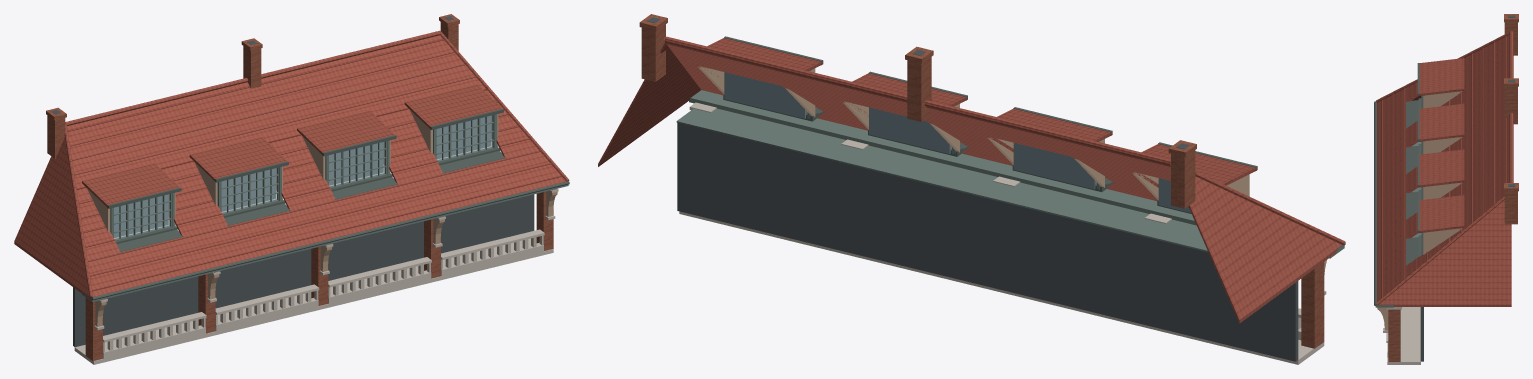
Rendered from lod-source.glb.
3 renders of one model, left to right at view 1: azimuth 30°, elevation 25°; view 2: azimuth 150°, elevation 25°; view 3: azimuth 270°, elevation 25°, orthographic. The views are drawn at different scales.
Visible parts, largest first — view 1: 新华村14号楼南坡四座老虎窗; view 2: 新华村14号楼南坡四座老虎窗; view 3: 新华村14号楼南坡四座老虎窗.
Part boxes in pixels (<box>): 新华村14号楼南坡四座老虎窗: <box>14,14,569,364</box>; 新华村14号楼南坡四座老虎窗: <box>598,14,1345,364</box>; 新华村14号楼南坡四座老虎窗: <box>1374,14,1518,364</box>.
Size of the model in its own units: 22.26 by 9.5 by 6.69.
Materials: 9 (2 with a texture image).
